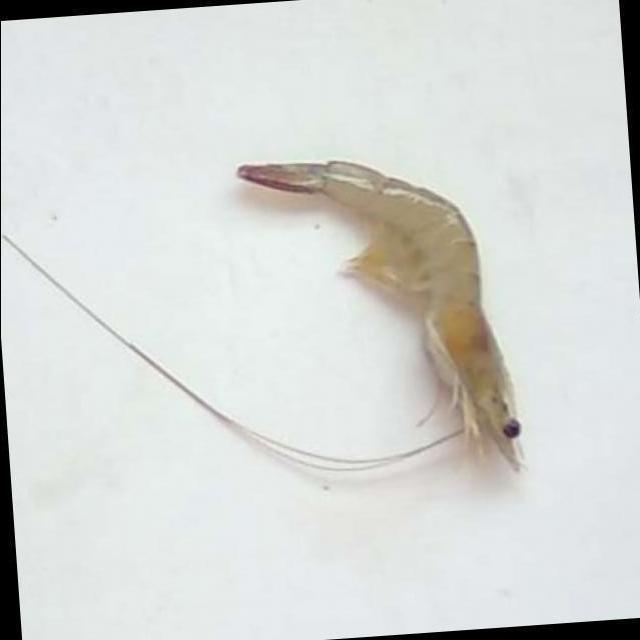shrimp: (237, 161, 523, 472)
